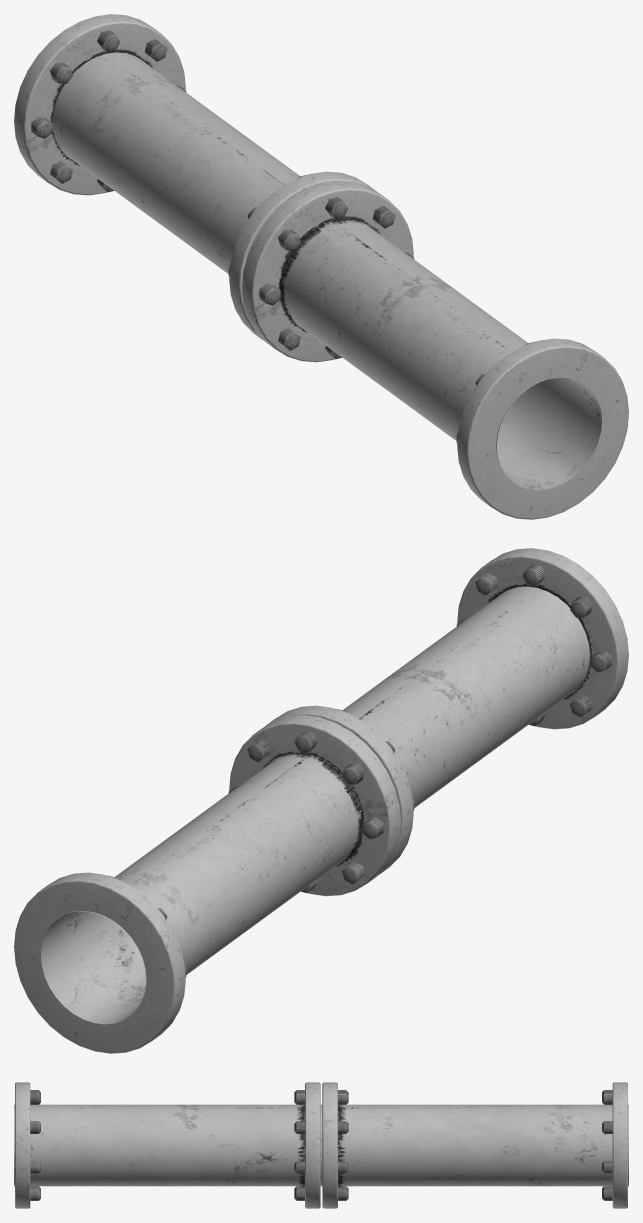
File: Modular_Small_Pipe_Straight_3m.fbx
3 views of the same model, one above another, from view 1: azimuth 30°, elevation 25°; view 2: azimuth 150°, elevation 25°; view 3: azimuth 270°, elevation 25° (orthographic). The views are drawn at different scales.
Parts seen in each view (by area): view 1: Modular_Small_Pipe_Straight_3m_LOD0; view 2: Modular_Small_Pipe_Straight_3m_LOD0; view 3: Modular_Small_Pipe_Straight_3m_LOD0.
Part boxes in pixels (x1,y1,x2,y2): Modular_Small_Pipe_Straight_3m_LOD0: [14, 14, 628, 519]; Modular_Small_Pipe_Straight_3m_LOD0: [14, 548, 628, 1053]; Modular_Small_Pipe_Straight_3m_LOD0: [14, 1082, 628, 1208].
Size of what is drawn, in the model's own units: 0.617 by 0.617 by 3.
